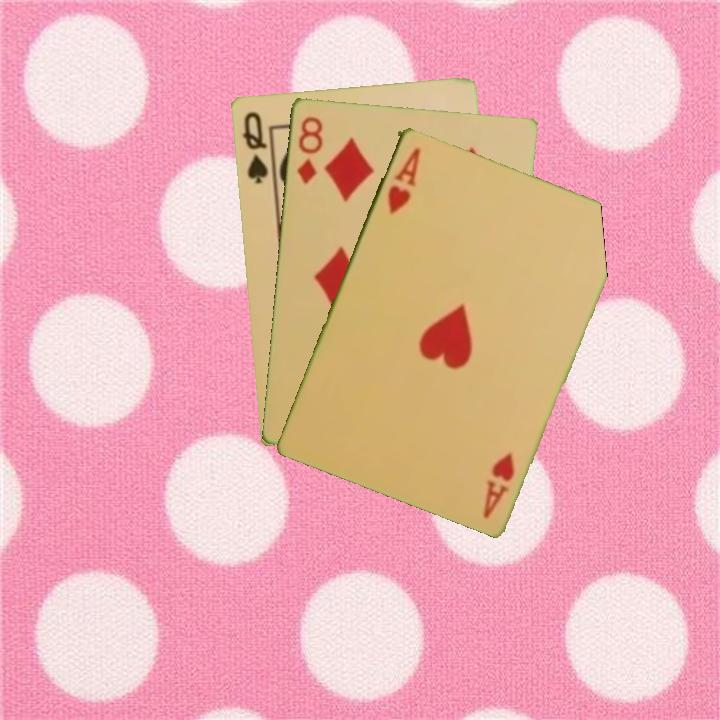8d: (293, 113, 325, 187)
Ah: (383, 143, 423, 217), (479, 448, 518, 521)
Qs: (239, 107, 270, 186)
